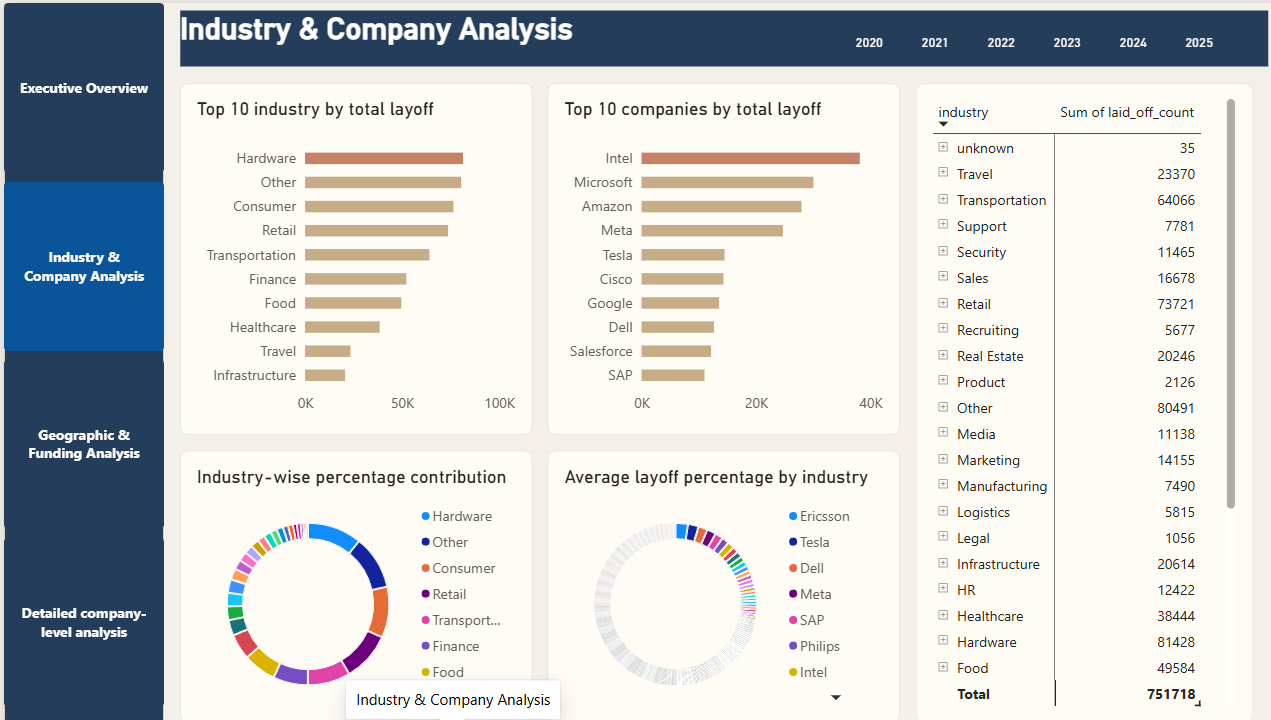

The dashboard page shown, as its layout file describes it:
{"tool":"powerbi","page":{"name":"Industry & Company Analysis ","canvas":[1920,1080],"ordinal":1},"visuals":[{"type":"shape","box":[0,0,160,720],"z":0},{"type":"shape","title":"Industry & Company Analysis","box":[176,8,1088,56],"z":1000},{"type":"clusteredBarChart","title":"Top 10 industry by total layoff","fields":{"Category":["layoffs_events.industry"],"Y":["layoffs_events.Total laid off"]},"box":[176,80,352,352],"z":2000},{"type":"clusteredBarChart","title":"Top 10 companies by total layoff","fields":{"Category":["layoffs_events.company"],"Y":["layoffs_events.Total laid off"]},"box":[544,80,352,352],"z":3000},{"type":"donutChart","title":" Industry-wise percentage contribution ","fields":{"Category":["layoffs_events.industry"],"Y":["layoffs_country_summary.Industry Layoff Share %"]},"box":[176,448,352,272],"z":4000},{"type":"donutChart","title":"Average layoff percentage by company","fields":{"Category":["layoffs_events.company"],"Y":["layoffs_country_summary.Average Layoffs per Event"]},"box":[544,448,352,272],"z":5000},{"type":"pivotTable","fields":{"Rows":["layoffs_events.industry","layoffs_events.company"],"Values":["select","Sum(layoffs_events.laid_off_count)"]},"box":[912,80,336,640],"z":6000},{"type":"advancedSlicerVisual","fields":{"Values":["layoffs_events.year"]},"box":[816,16,432,48],"z":7000},{"type":"pageNavigator","box":[0,0,160,704],"z":8000}]}

Visuals, with their boxes in screenshot pixels (x1, y1, x2, y2), scaled from the page's 1920x1080 canvas onto the 1271x720 screenshot:
shape: [left=0, top=0, right=106, bottom=480]
"Industry & Company Analysis" shape: [left=117, top=5, right=837, bottom=43]
"Top 10 industry by total layoff" clusteredBarChart: [left=117, top=53, right=350, bottom=288]
"Top 10 companies by total layoff" clusteredBarChart: [left=360, top=53, right=593, bottom=288]
" Industry-wise percentage contribution " donutChart: [left=117, top=299, right=350, bottom=480]
"Average layoff percentage by company" donutChart: [left=360, top=299, right=593, bottom=480]
pivotTable - layoffs_events.industry x layoffs_events.company: [left=604, top=53, right=826, bottom=480]
advancedSlicerVisual - layoffs_events.year: [left=540, top=11, right=826, bottom=43]
pageNavigator: [left=0, top=0, right=106, bottom=469]
